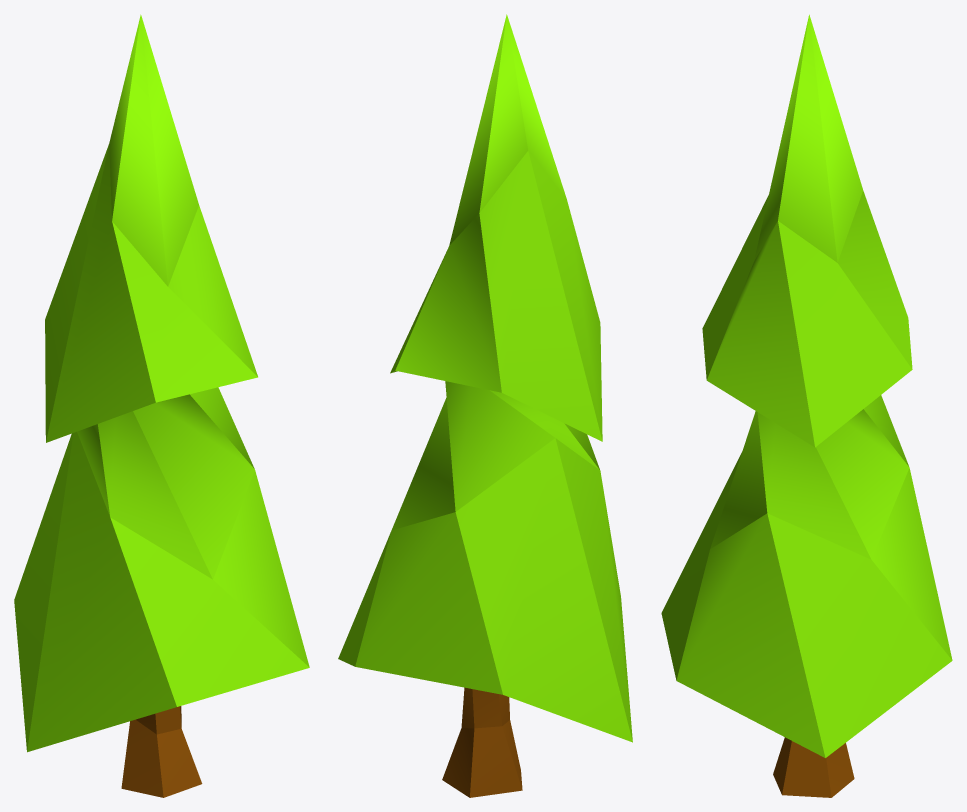
The model's file is Tree11.dae.
The picture shows the model from 3 angles, left to right: view 1: azimuth 30°, elevation 25°; view 2: azimuth 150°, elevation 25°; view 3: azimuth 270°, elevation 25°; orthographic projection.
Visible parts, largest first — view 1: Tree11; view 2: Tree11; view 3: Tree11.
Boxes of the visible parts, x1,y1,x2,y2 form: Tree11: (14,14,309,797); Tree11: (338,14,632,797); Tree11: (661,14,952,797).
Bounding box in the file's own units: 2.12 × 5.56 × 1.93.
